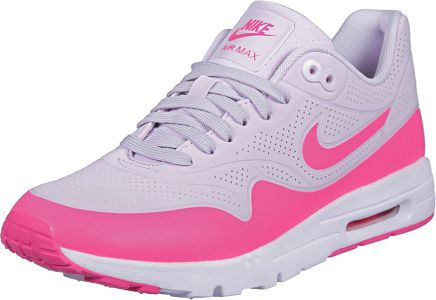nike: (301, 107, 390, 172)
